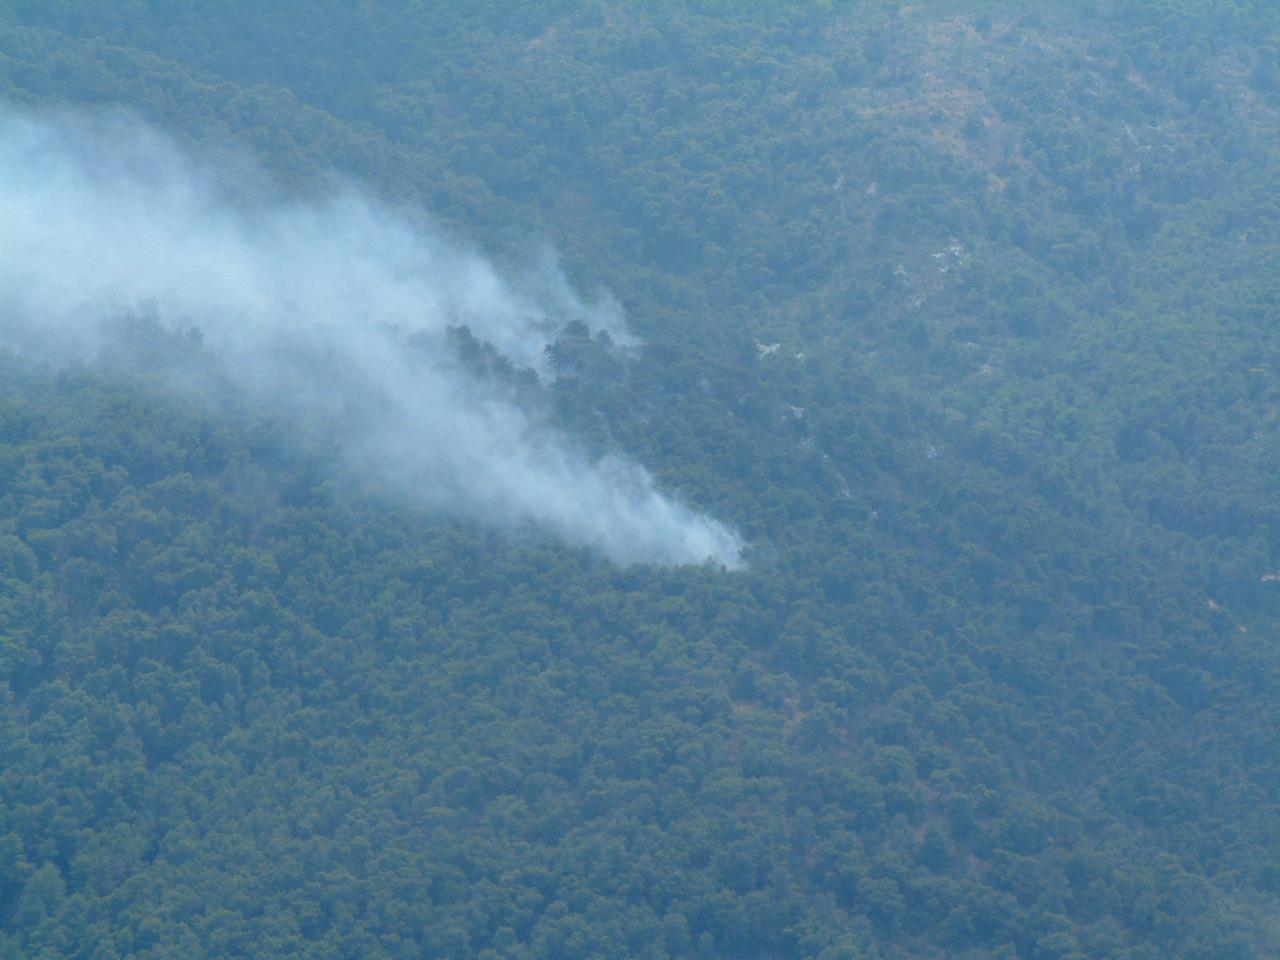Smoke: (0, 110, 763, 582)
